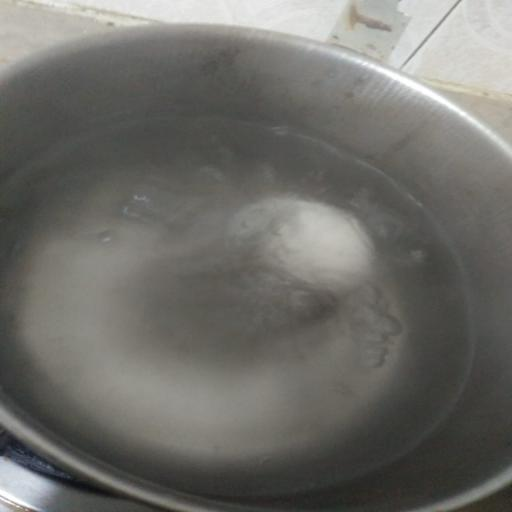telur: (221, 192, 381, 310)
